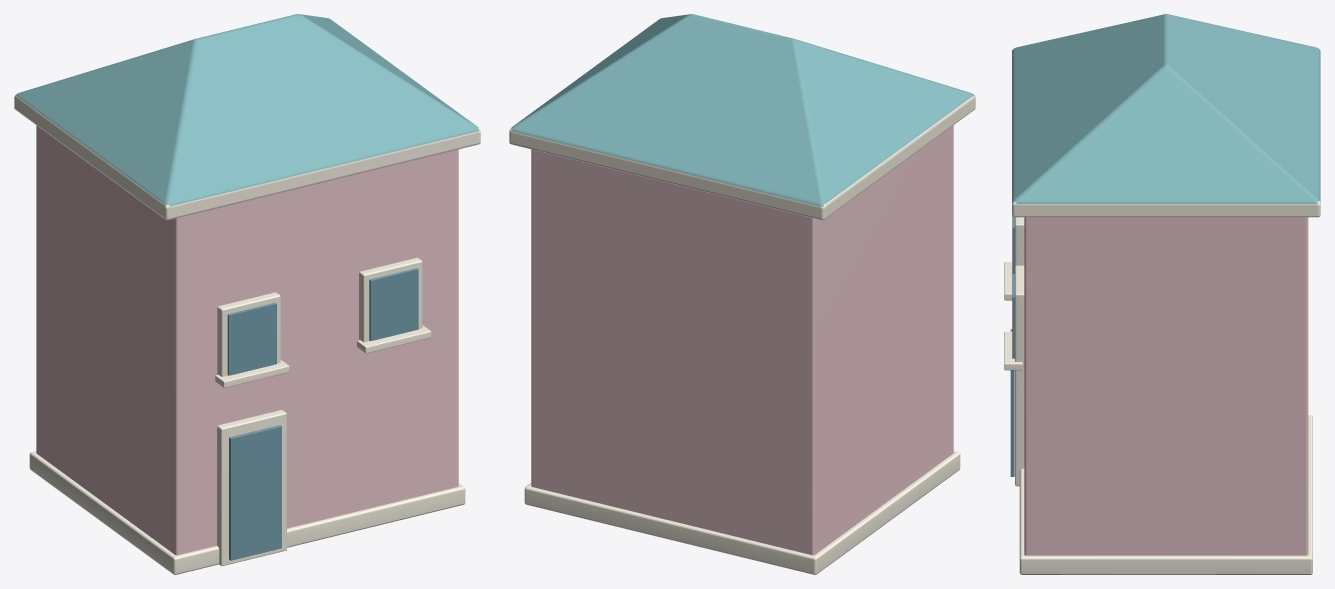
Rendered from PeachTownhouse.fbx.
The picture shows the model from 3 angles, left to right: view 1: azimuth 30°, elevation 25°; view 2: azimuth 150°, elevation 25°; view 3: azimuth 270°, elevation 25°; orthographic projection.
Parts seen in each view (by area): view 1: Walls, Roof, BaseTrim, Door, DoorFrame, UpperWindow_0_0_Glass, UpperWindow_0_1_Glass, UpperWindow_0_1_Frame, UpperWindow_0_0_Frame, UpperWindow_0_0_Sill, UpperWindow_0_1_Sill; view 2: Walls, Roof, BaseTrim; view 3: Walls, Roof, BaseTrim, DoorFrame, UpperWindow_0_1_Frame, Door, UpperWindow_0_0_Frame, UpperWindow_0_1_Sill.
Boxes of the visible parts, x1=… form: Walls: x1=36, y1=125, x2=458, y2=555; Roof: x1=14, y1=14, x2=480, y2=220; BaseTrim: x1=29, y1=451, x2=465, y2=574; Door: x1=229, y1=425, x2=281, y2=560; DoorFrame: x1=217, y1=410, x2=286, y2=566; UpperWindow_0_0_Glass: x1=227, y1=302, x2=276, y2=375; UpperWindow_0_1_Glass: x1=369, y1=268, x2=418, y2=340; UpperWindow_0_1_Frame: x1=359, y1=257, x2=422, y2=342; UpperWindow_0_0_Frame: x1=217, y1=292, x2=280, y2=376; UpperWindow_0_0_Sill: x1=215, y1=360, x2=289, y2=388; UpperWindow_0_1_Sill: x1=357, y1=325, x2=431, y2=353; Walls: x1=531, y1=125, x2=953, y2=555; Roof: x1=509, y1=14, x2=975, y2=220; BaseTrim: x1=524, y1=451, x2=960, y2=574; Walls: x1=1024, y1=217, x2=1308, y2=555; Roof: x1=1012, y1=14, x2=1320, y2=217; BaseTrim: x1=1019, y1=415, x2=1312, y2=574; DoorFrame: x1=1015, y1=366, x2=1024, y2=486; UpperWindow_0_1_Frame: x1=1015, y1=265, x2=1024, y2=366; Door: x1=1010, y1=329, x2=1014, y2=476; UpperWindow_0_0_Frame: x1=1015, y1=217, x2=1024, y2=266; UpperWindow_0_1_Sill: x1=1004, y1=331, x2=1022, y2=370.
Bounding box in the file's own units: 4.78 × 6.67 × 4.12.
